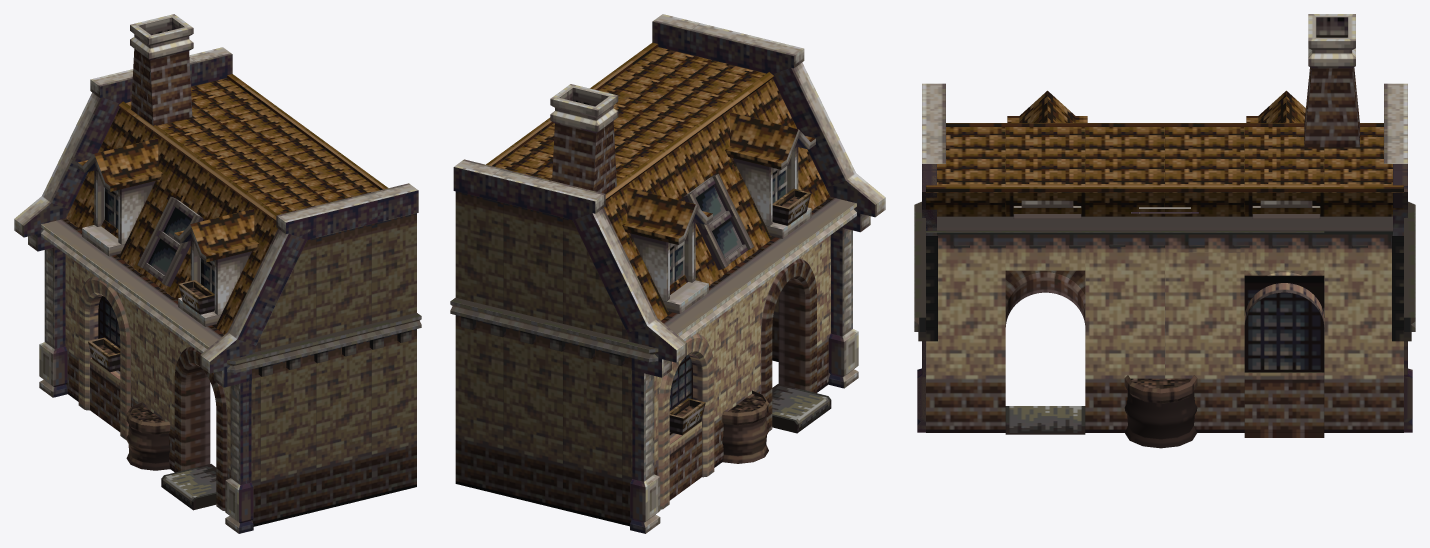
Rendered from EnvBdgMD_City_A_Outdoor_SC.FBX.
3 renders of one model, left to right at view 1: azimuth 30°, elevation 25°; view 2: azimuth 150°, elevation 25°; view 3: azimuth 270°, elevation 25°, orthographic. The views are drawn at different scales.
Visible parts, largest first — view 1: EnvBdgMD_City_A_Outdoor_SC; view 2: EnvBdgMD_City_A_Outdoor_SC; view 3: EnvBdgMD_City_A_Outdoor_SC.
Boxes of the visible parts, <box> form: EnvBdgMD_City_A_Outdoor_SC: <box>14,14,421,533</box>; EnvBdgMD_City_A_Outdoor_SC: <box>450,14,885,533</box>; EnvBdgMD_City_A_Outdoor_SC: <box>914,14,1415,448</box>.
Bounding box in the file's own units: 376 × 630 × 625.
Materials: 1 (1 with a texture image).
